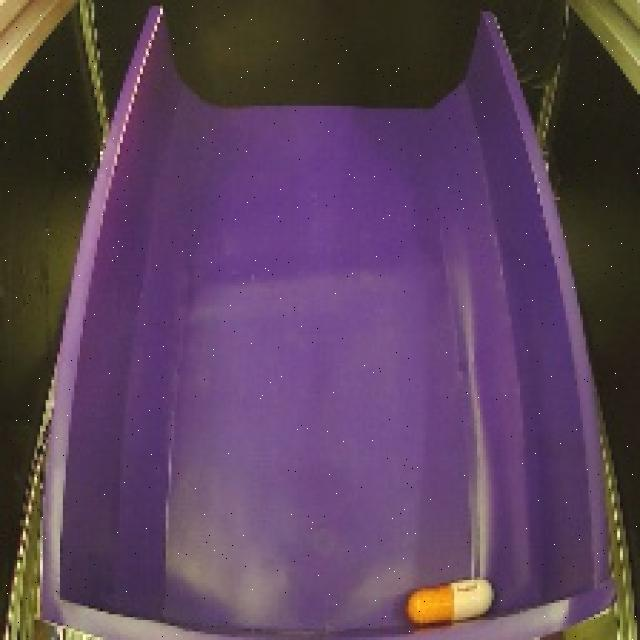small: (400, 564, 504, 632)
